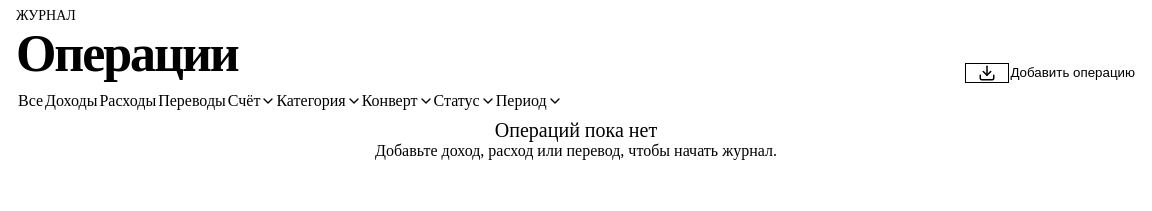
Test: operations page (v2 journal) › announces a CSV download error to the owner
Click the button named "Экспорт CSV". click: [987, 73]
box: x1=965 y1=63 x2=1009 y2=83
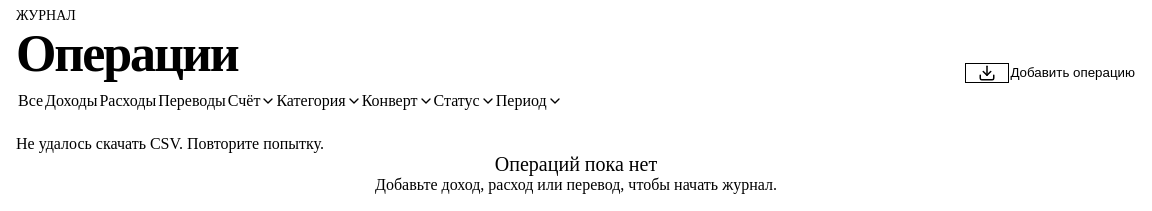
Expected: the message "Не удалось скачать CSV. Повторите попытку." is shown, x1=16 y1=135 x2=324 y2=152
